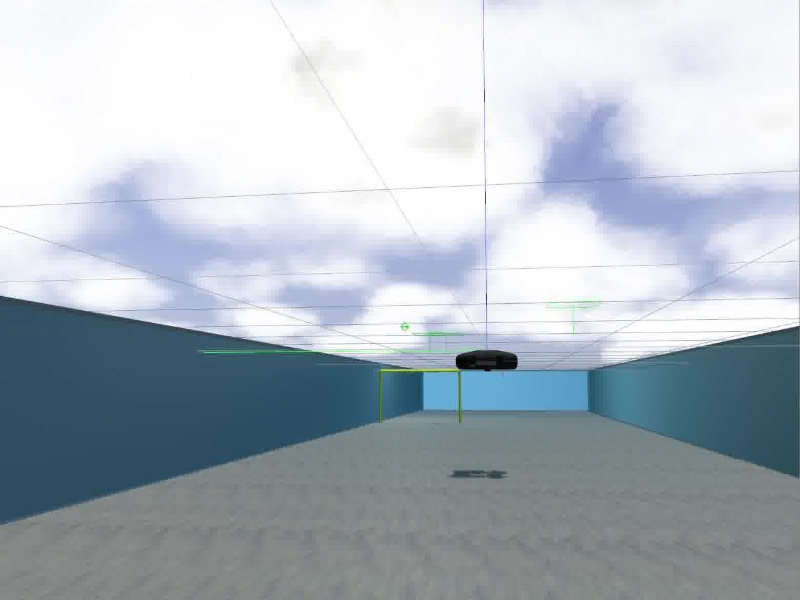gate: (378, 367, 464, 423)
